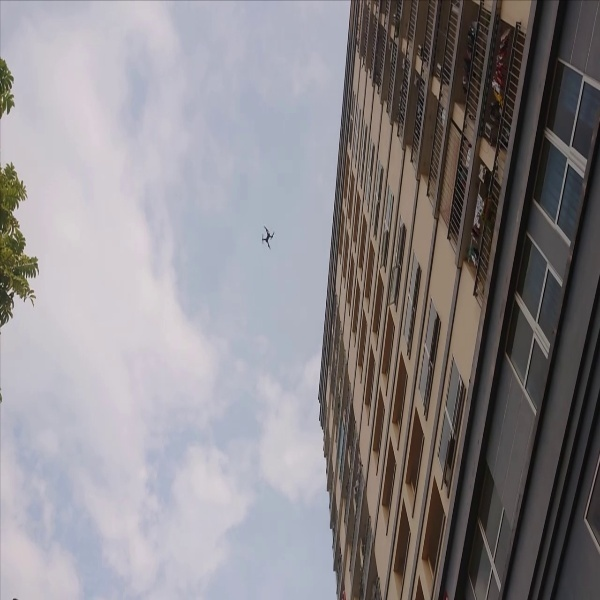drone: (256, 220, 281, 254)
